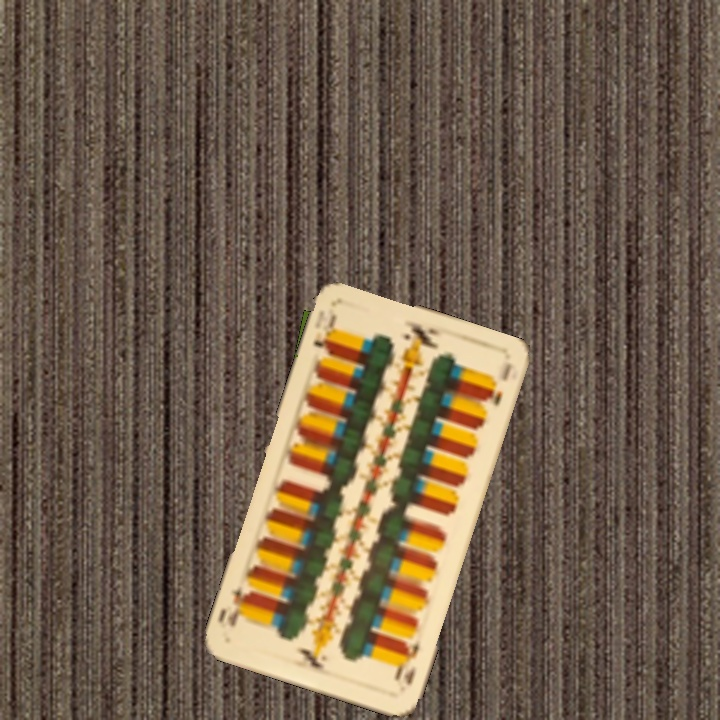E10: (391, 636, 423, 688), (309, 310, 339, 358)
